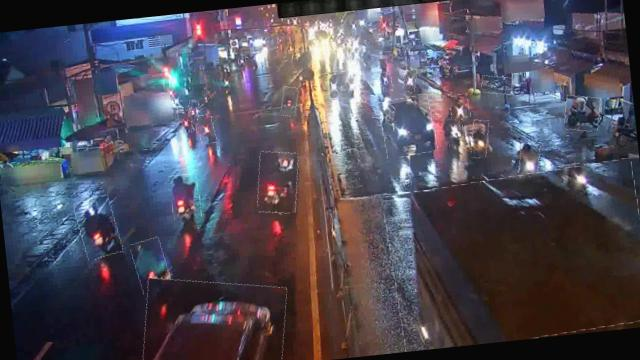Bike: (254, 150, 302, 216), (74, 195, 121, 260), (132, 238, 170, 294), (562, 93, 602, 133), (169, 174, 201, 221), (567, 162, 600, 200), (517, 143, 542, 181), (468, 119, 491, 159), (481, 74, 513, 96), (196, 114, 216, 146), (280, 86, 300, 117), (446, 118, 466, 148), (448, 94, 469, 120), (176, 108, 194, 134), (402, 68, 418, 92), (188, 100, 200, 122), (380, 72, 392, 92)
Car: (137, 269, 291, 360), (379, 94, 437, 158), (327, 70, 359, 100)
Truck: (383, 159, 640, 351)
